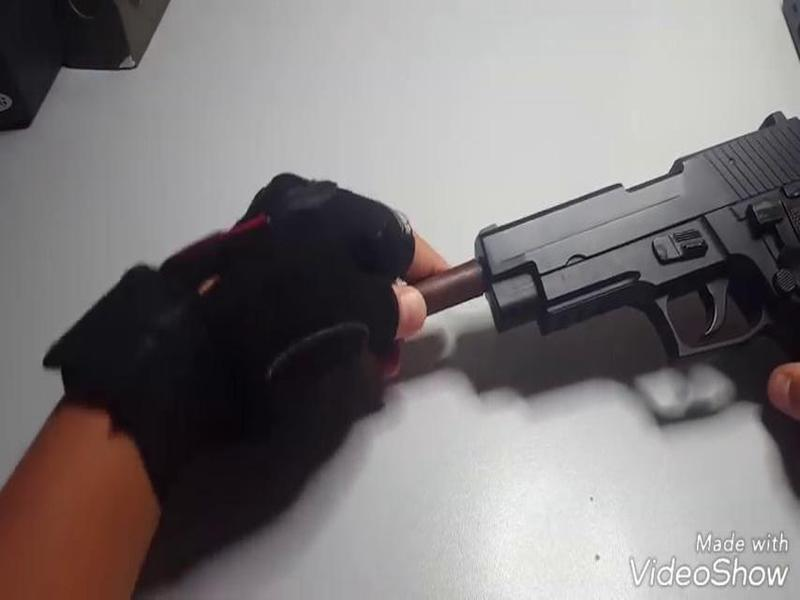Pistola: (478, 102, 800, 376)
